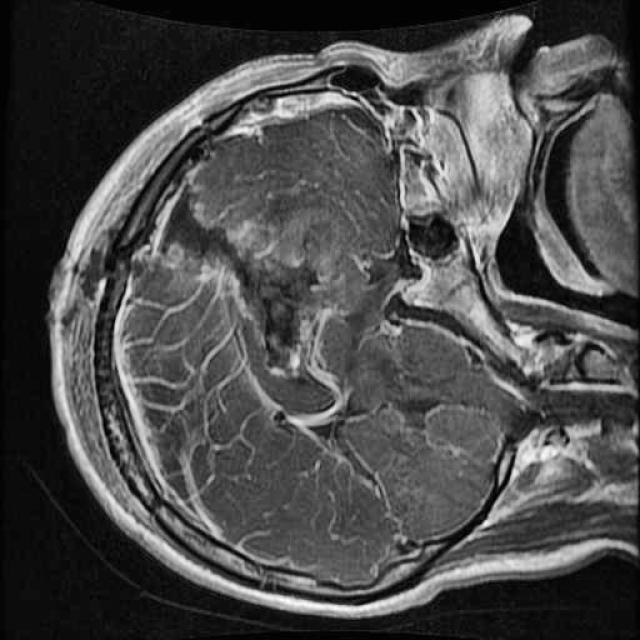Tumor: (146, 164, 357, 411)
